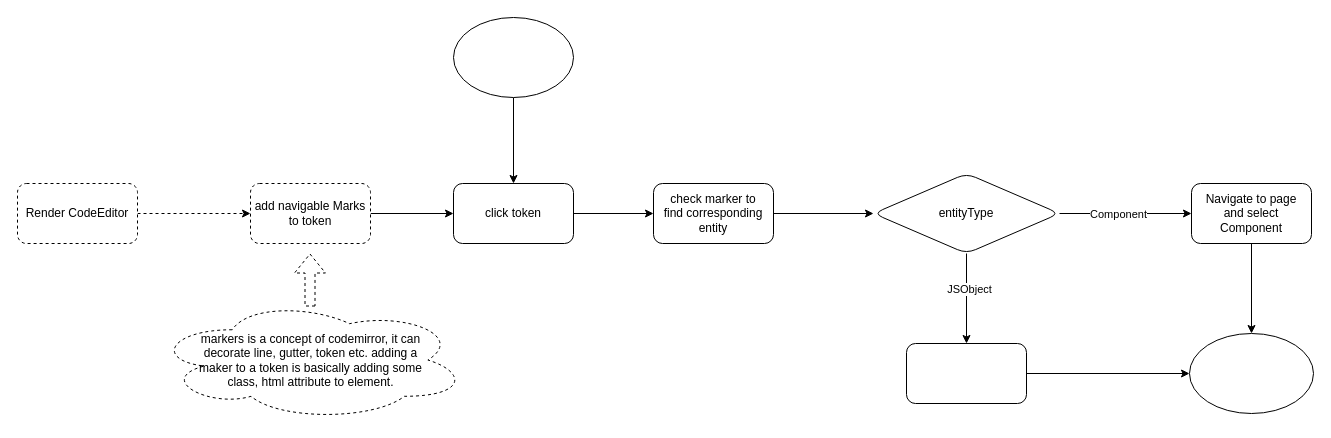
The diagram is 1331 pixels wide and 438 high, and some of its shapes have lost their labels. Here are the shapes that lost their labels. From the top down, the box of each, then its label:
(452, 16, 574, 98): start
(906, 342, 1026, 404): Navigate to JSObject
(1188, 332, 1314, 414): end
